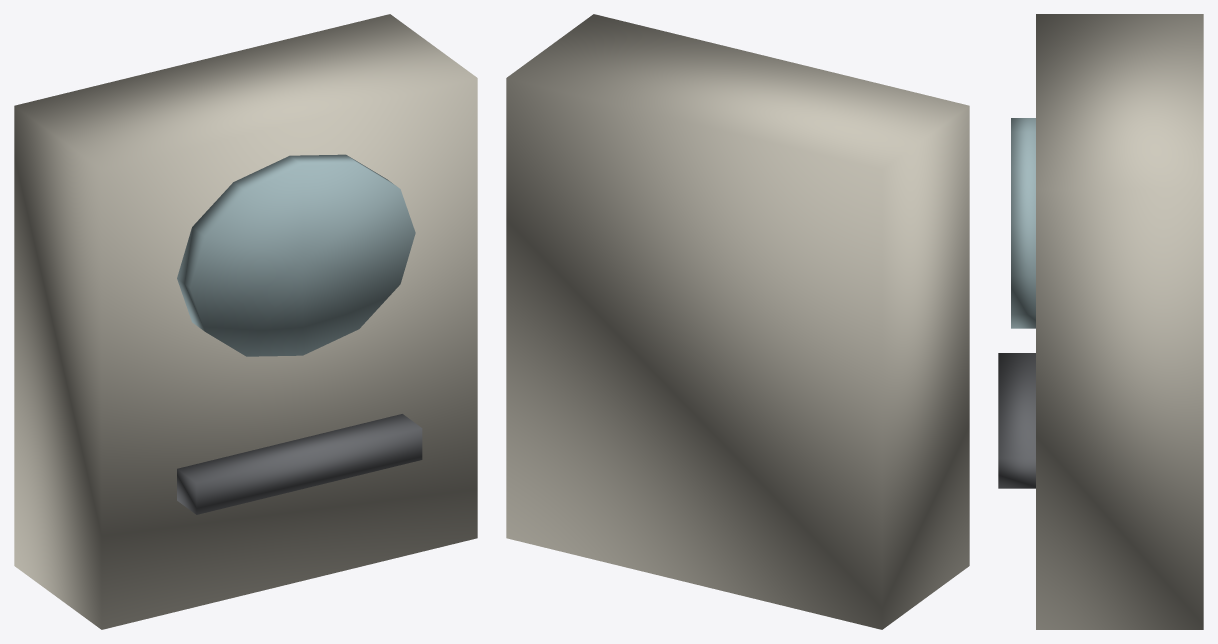
The model's file is factory_time_clock__wide.glb.
The picture shows the model from 3 angles, left to right: view 1: azimuth 30°, elevation 25°; view 2: azimuth 150°, elevation 25°; view 3: azimuth 270°, elevation 25°; orthographic projection. The views are drawn at different scales.
Visible parts, largest first — view 1: world; view 2: world; view 3: world.
Part boxes in pixels (x1,y1,x2,y2): world: (14, 14, 477, 629); world: (506, 14, 969, 629); world: (998, 14, 1203, 629).
Bounding box in the file's own units: 0.496 × 0.58 × 0.245.
